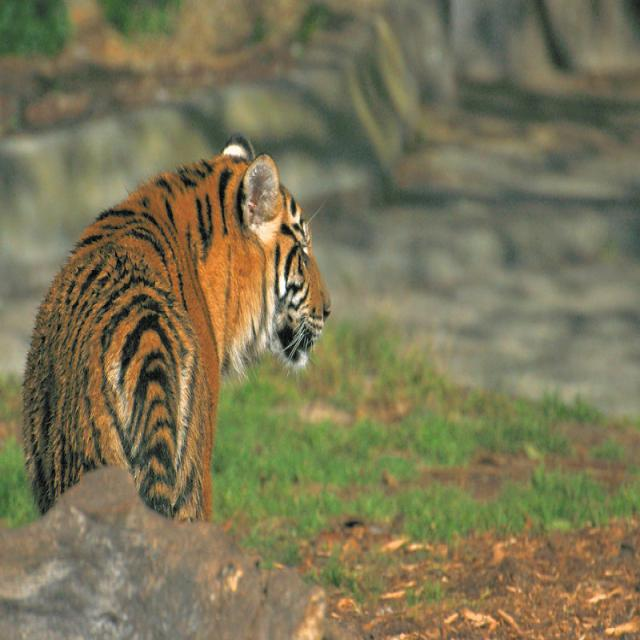Tiger: (12, 123, 329, 523)
